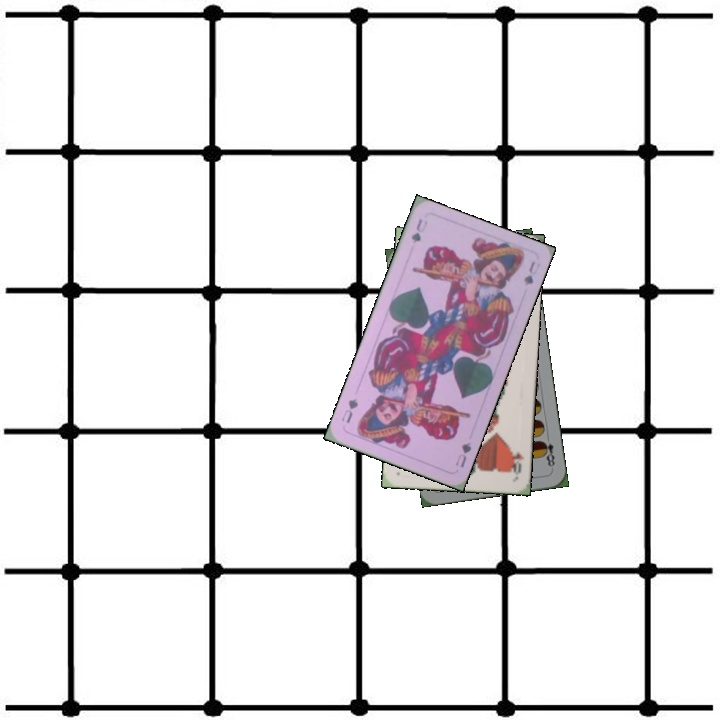E8: (538, 431, 557, 472)
GU: (451, 438, 474, 470), (407, 215, 430, 246)
HO: (507, 447, 526, 478)
